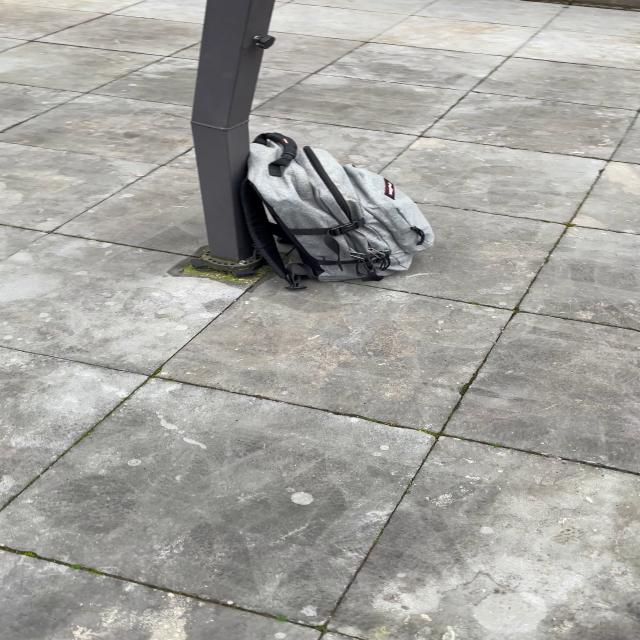backpack: (232, 128, 442, 292)
